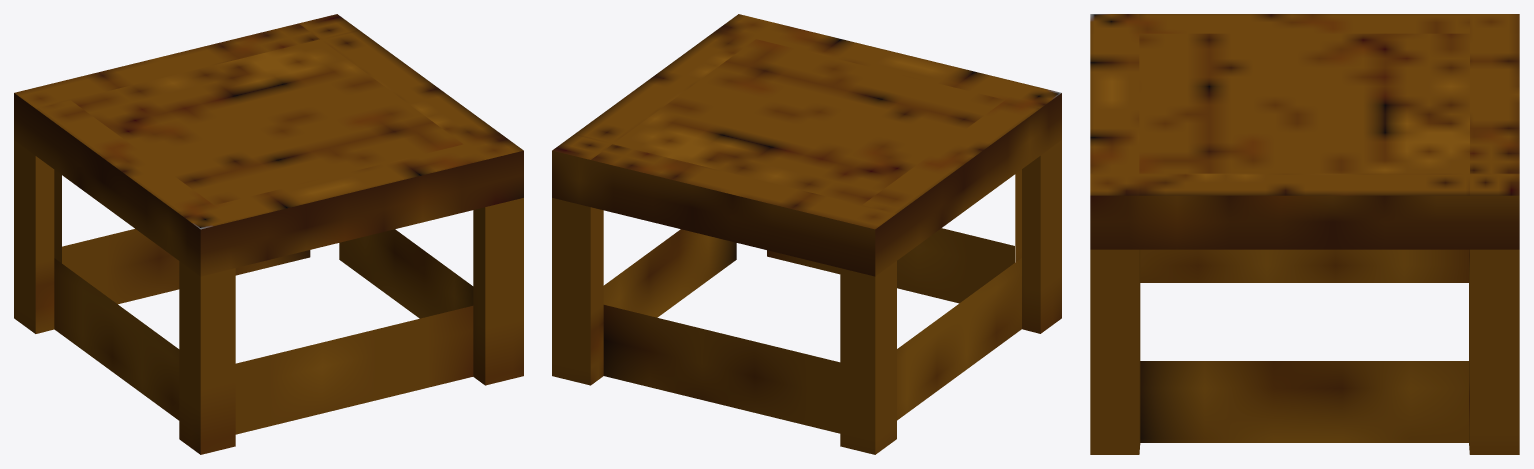
The model's file is table_633x01.obj.
The picture shows the model from 3 angles, left to right: view 1: azimuth 30°, elevation 25°; view 2: azimuth 150°, elevation 25°; view 3: azimuth 270°, elevation 25°; orthographic projection. The views are drawn at different scales.
Parts seen in each view (by area): view 1: Table_633x1; view 2: Table_633x1; view 3: Table_633x1.
Boxes of the visible parts, bbox=[...] form: Table_633x1: bbox=[14, 14, 523, 454]; Table_633x1: bbox=[552, 14, 1061, 454]; Table_633x1: bbox=[1090, 14, 1519, 454].
Bounding box in the file's own units: 3 × 2 × 3.
